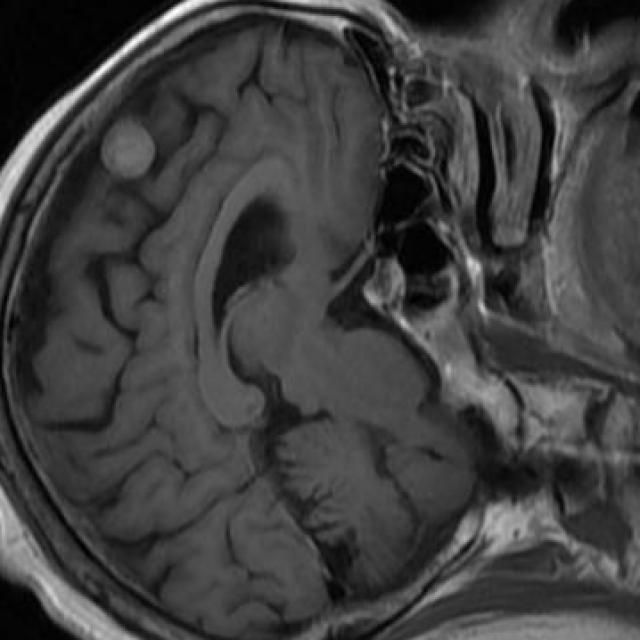meningioma: (102, 119, 157, 180)
